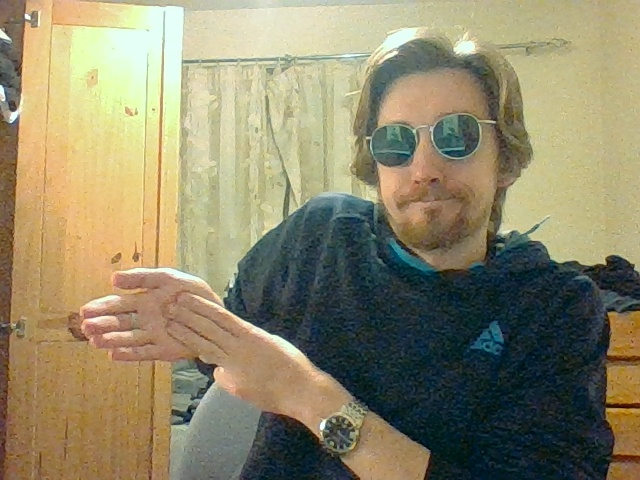mother: (81, 267, 228, 362)
